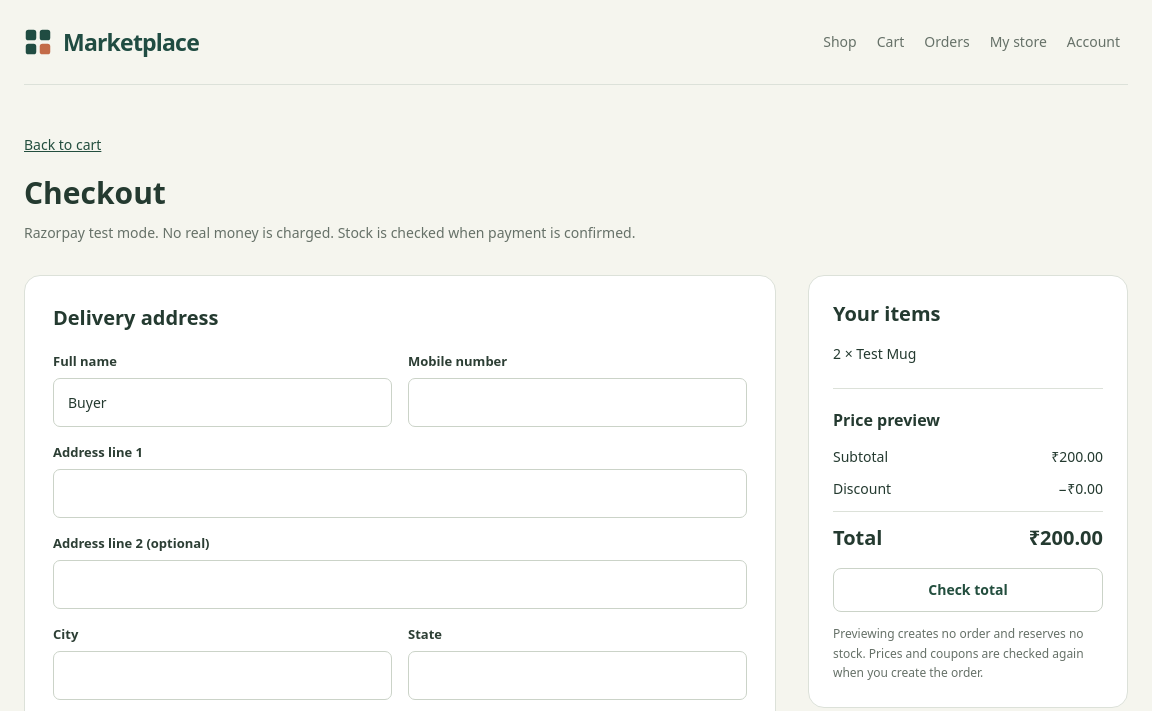
checkout sends address, coupon and cart revision without client prices
The image size is (1152, 711).
Type "9876543210" into the field labelled "Mobile number".
click(578, 402); type("9876543210")  # box [408, 378, 747, 427]
Type "123 Test Street" into the field labelled "Address line 1".
click(400, 494); type("123 Test Street")  # box [53, 469, 747, 518]
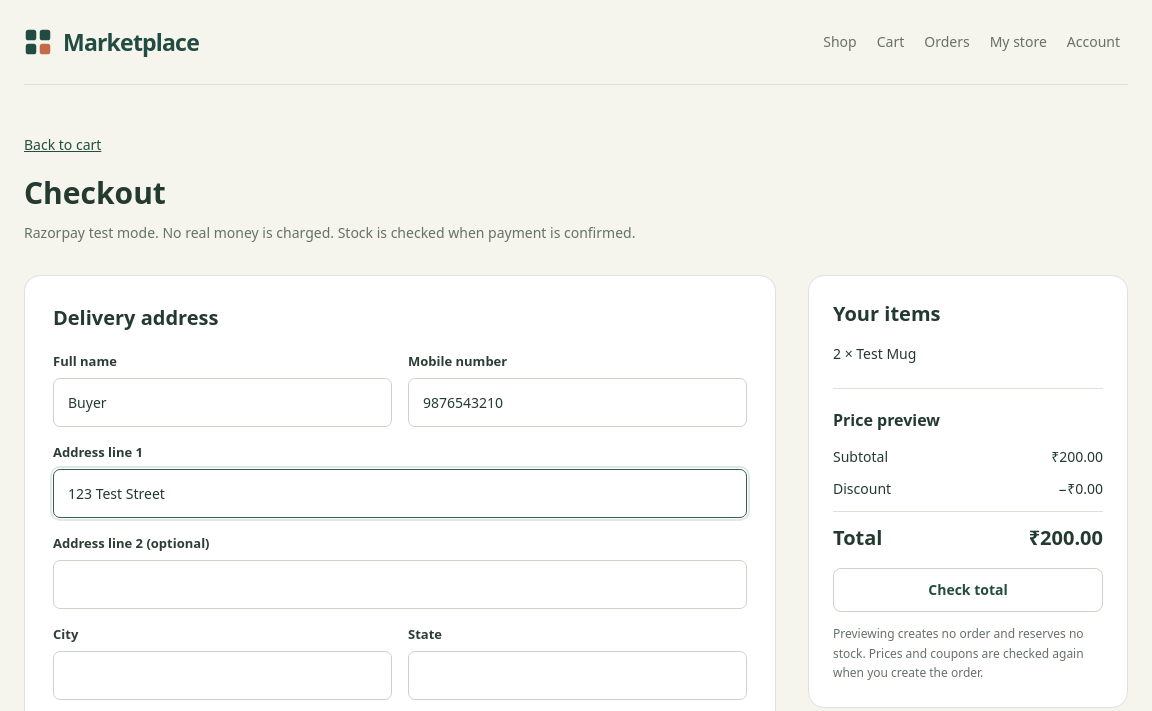
Type "Delhi" into the field labelled "City".
click(222, 676); type("Delhi")  # box [53, 651, 392, 700]
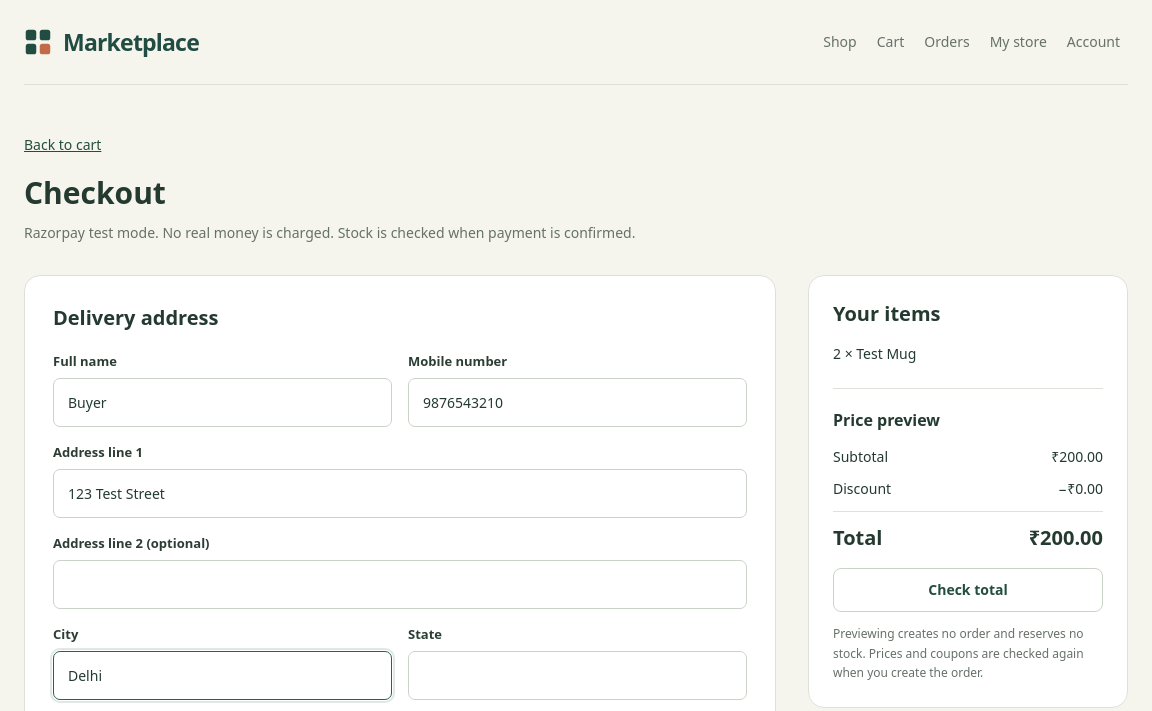
Type "Delhi" into the field labelled "State".
click(578, 676); type("Delhi")  # box [408, 651, 747, 700]
(page scrolled)
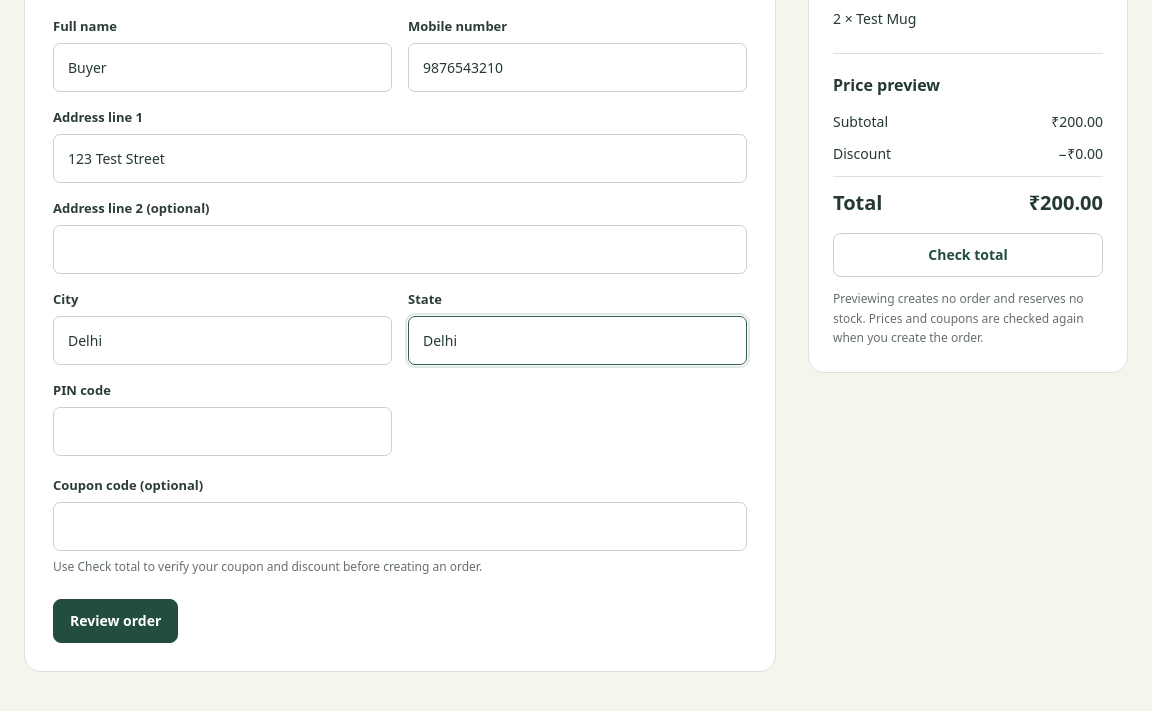
Type "110001" into the field labelled "PIN code".
click(222, 432); type("110001")  # box [53, 407, 392, 456]
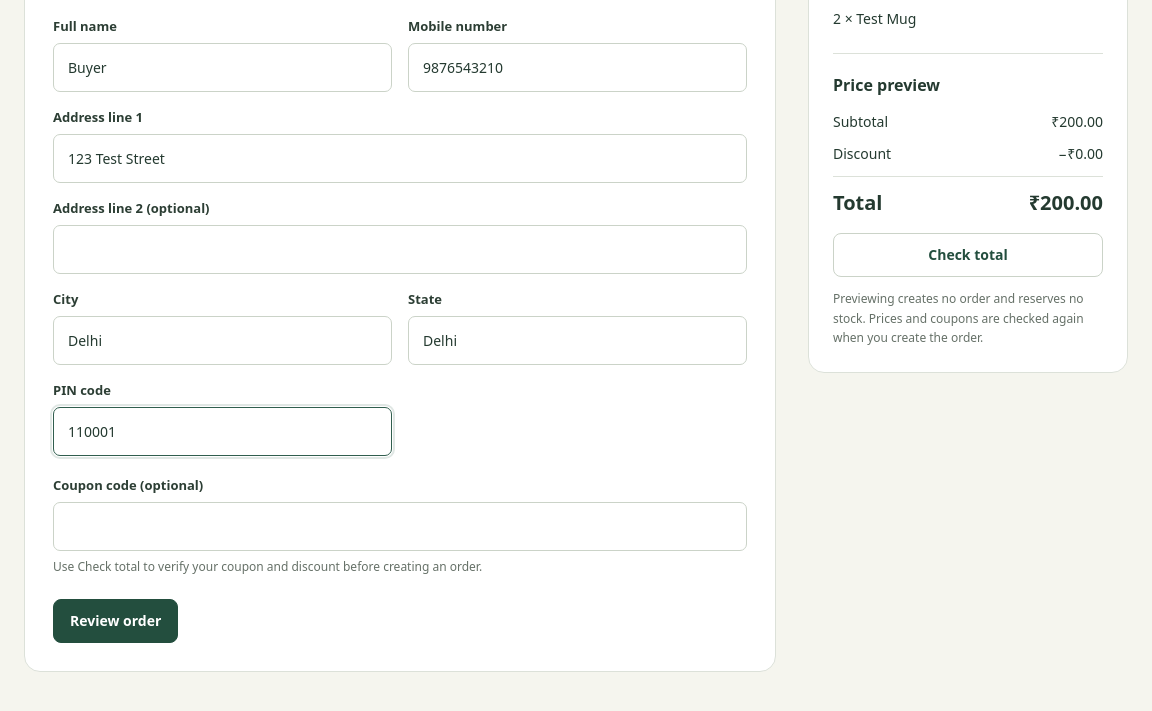
Type "SAVE10" into the field labelled "Coupon code (optional)".
click(400, 526); type("SAVE10")  # box [53, 502, 747, 551]
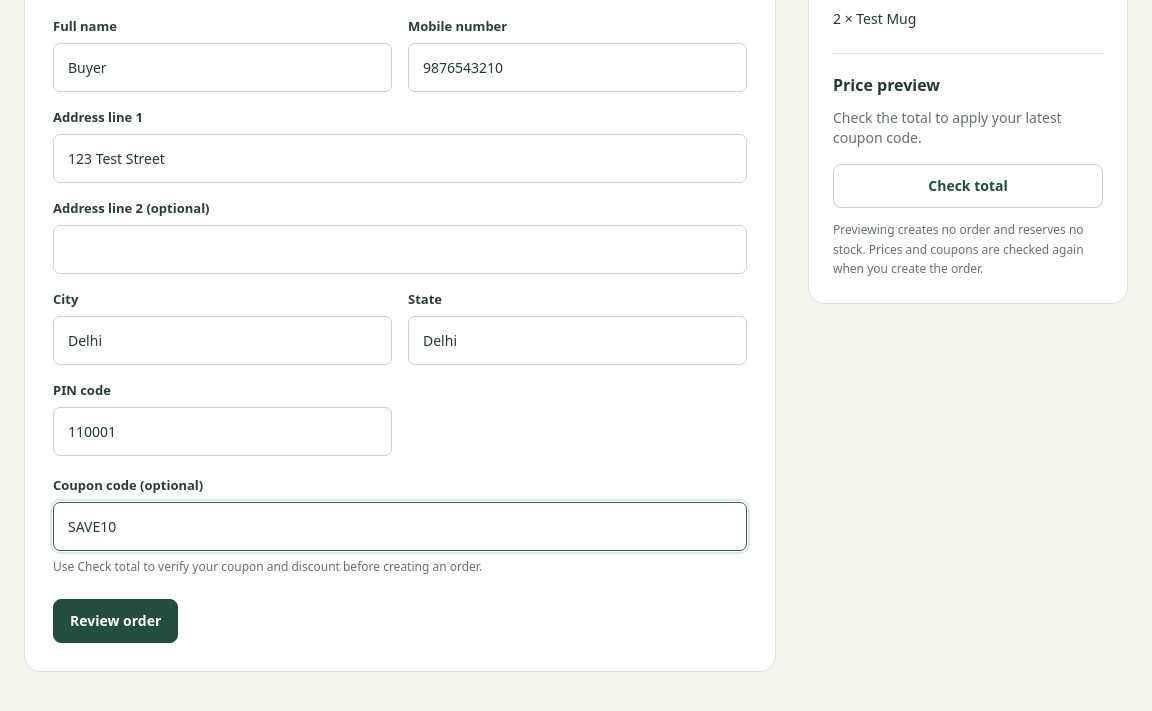
Click the button "Review order".
click(116, 621)  # box [53, 599, 178, 643]
(page scrolled)
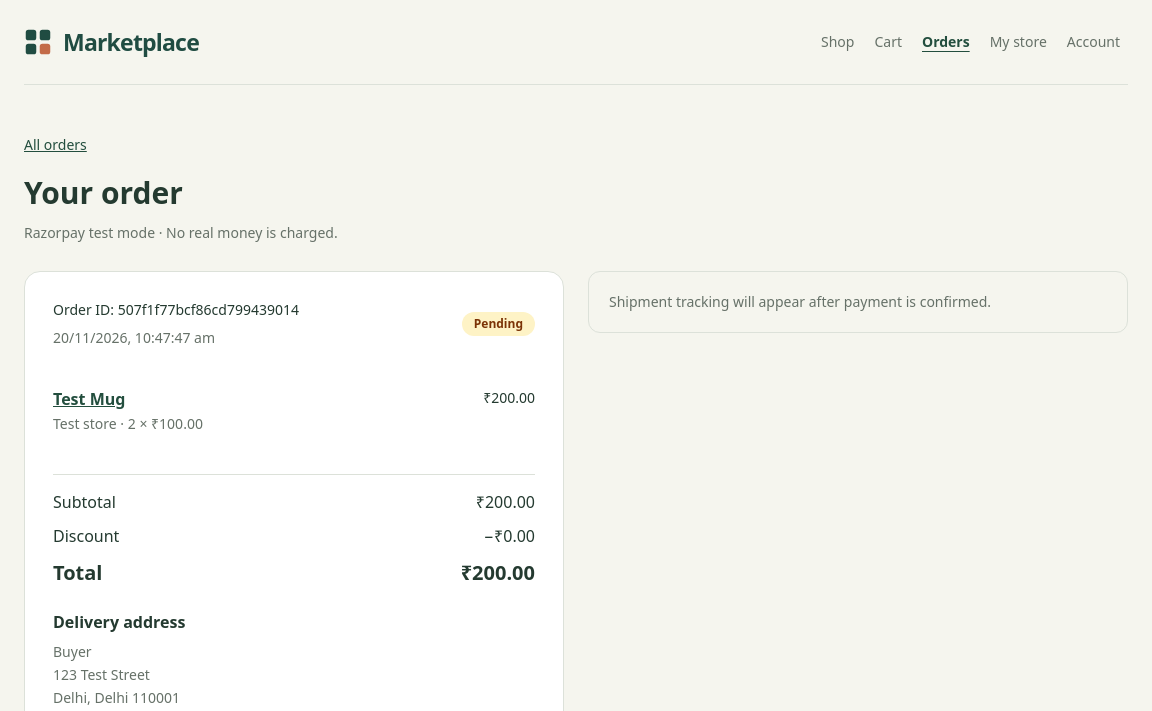
Check: the heading "Your order" is shown, box [24, 172, 183, 213]
